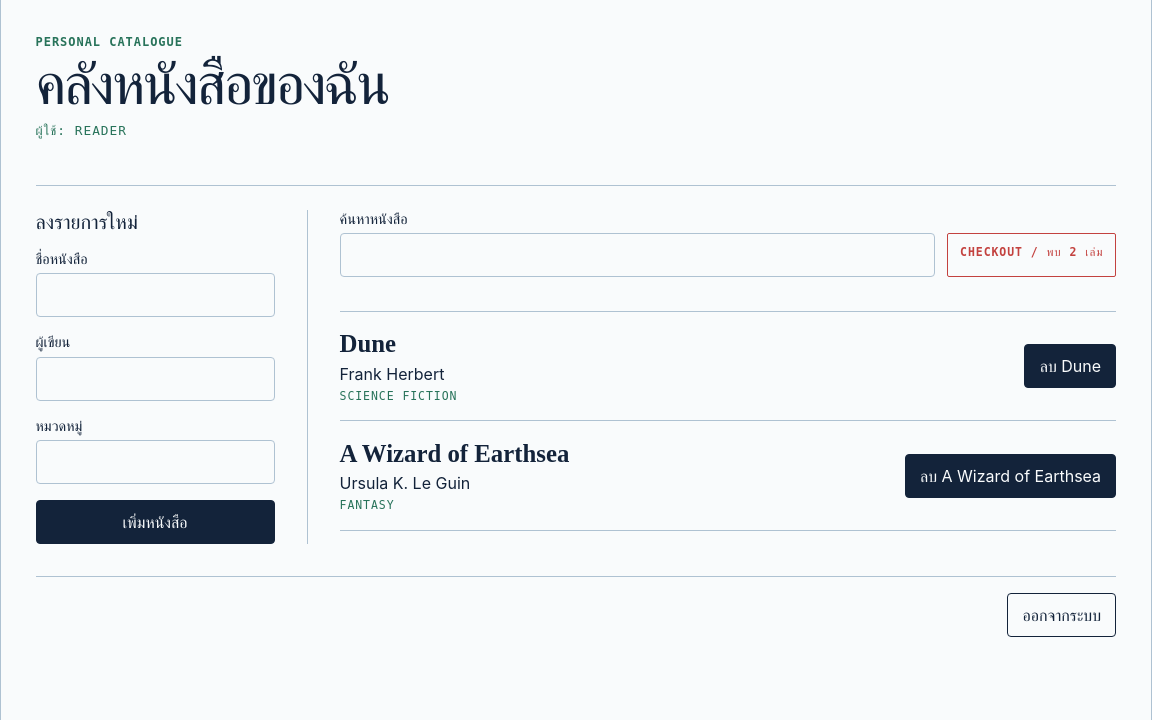
Test: LibraryPage › creates a book, then clears and focuses the title field
expect the heading "Dune" is shown: met, box [340,330,396,357]
Type "The Left Hand of Darkness" into the field labelled "ชื่อหนังสือ".
click(155, 295); type("The Left Hand of Darkness")  # box [36,273,274,317]
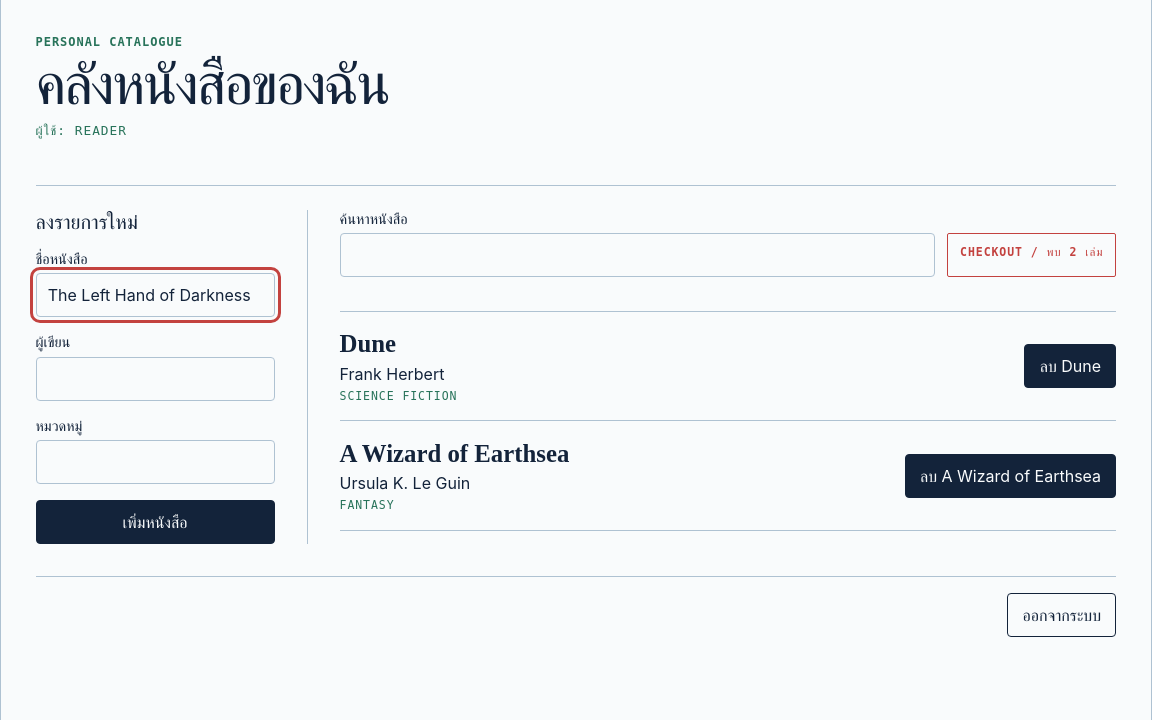
Type "Ursula K. Le Guin" into the field labelled "ผู้เขียน".
click(155, 379); type("Ursula K. Le Guin")  # box [36,357,274,401]
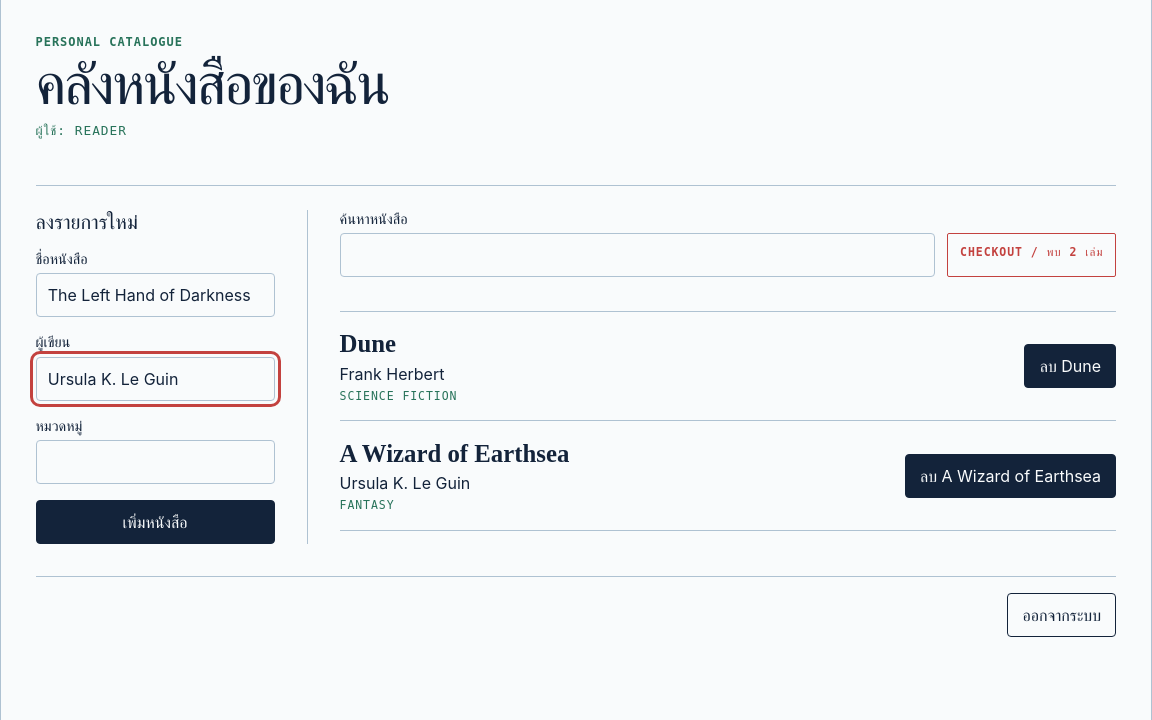
Type "Science fiction" into the field labelled "หมวดหมู่".
click(155, 462); type("Science fiction")  # box [36,440,274,484]
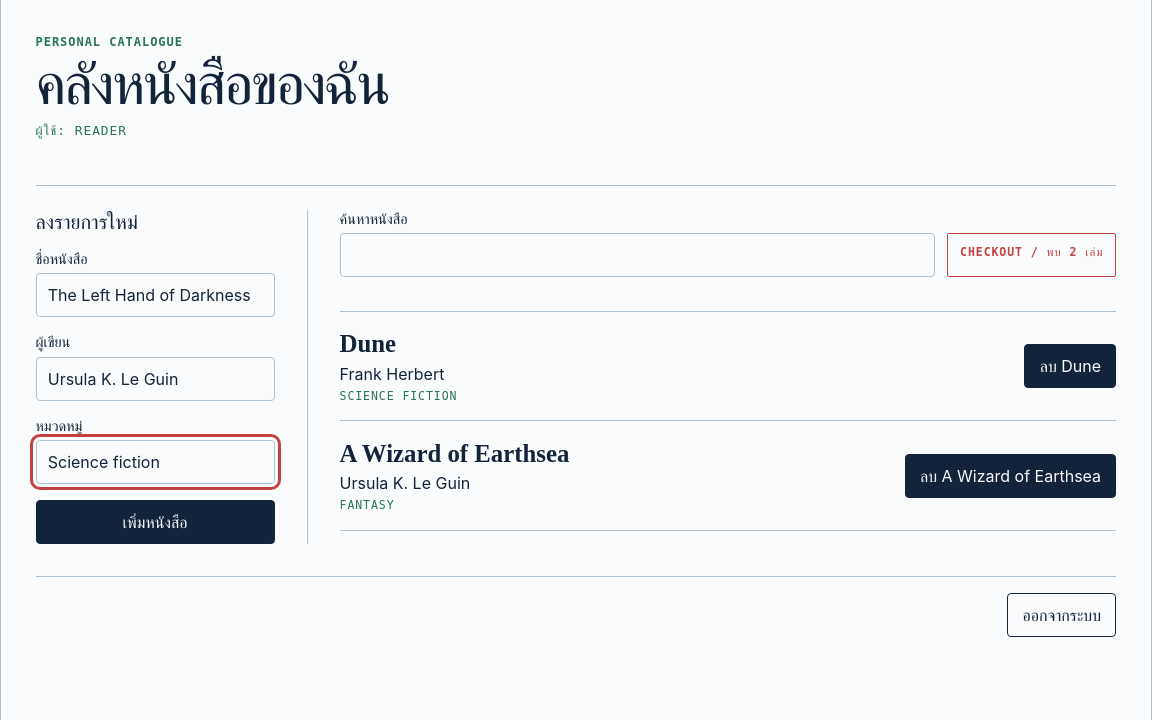
Click the button "เพิ่มหนังสือ".
click(155, 522)  # box [36,500,274,544]
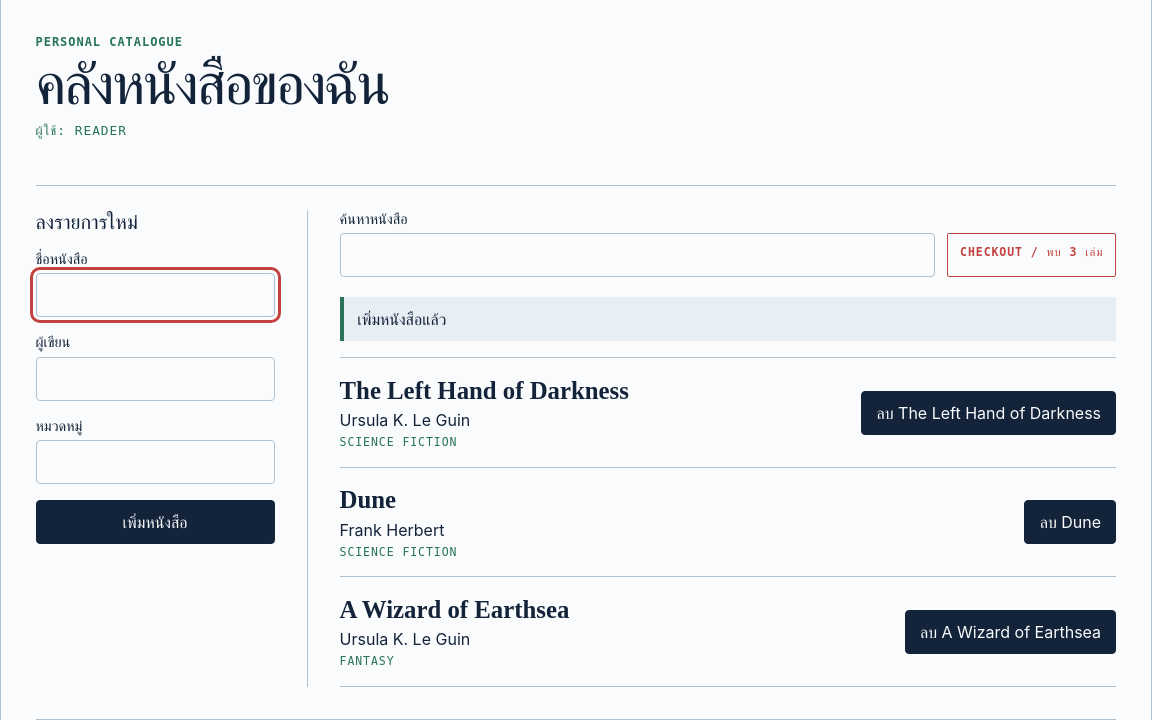
expect the text "เพิ่มหนังสือแล้ว" is shown: met, box [340,297,1116,341]
expect the heading "The Left Hand of Darkness" is shown: met, box [340,377,629,404]
expect the field labelled "ชื่อหนังสือ" is empty: met, box [36,273,274,317]
